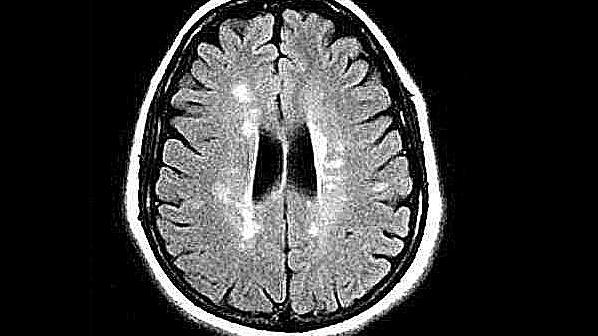Normal_Brain: (1, 1, 596, 336)
